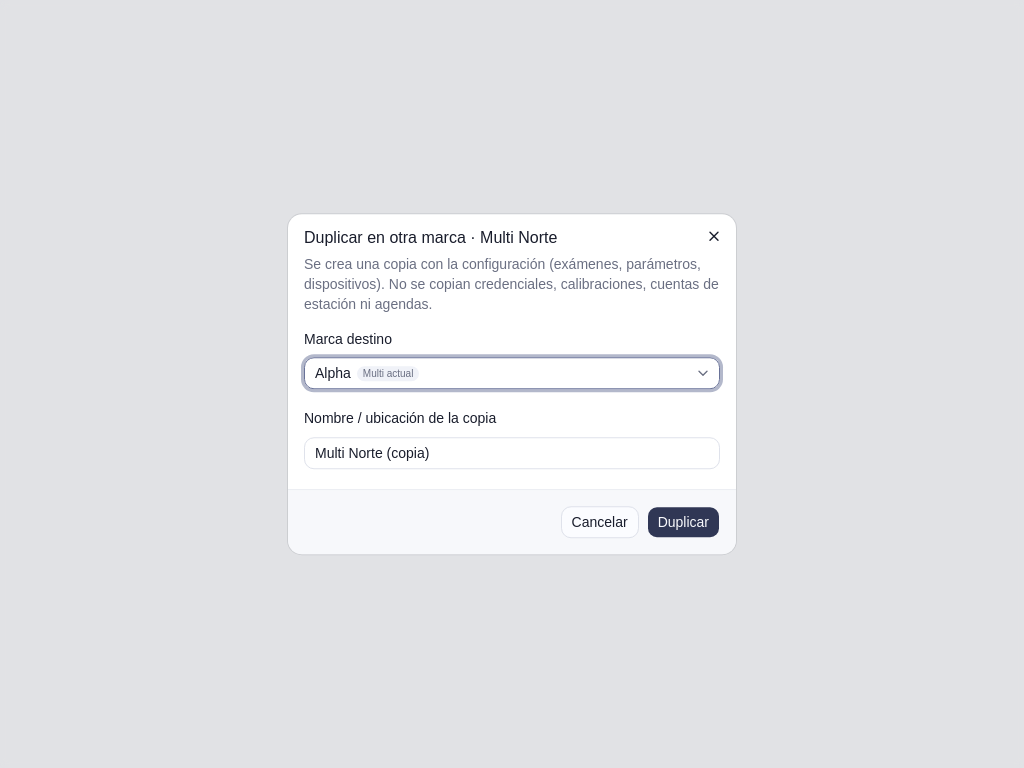
KioskActionDialog › shows the backend error for a failed duplicate
This screenshot has width=1024, height=768.
Click the button "Duplicar". click: (683, 522)
box: [647,506,720,538]
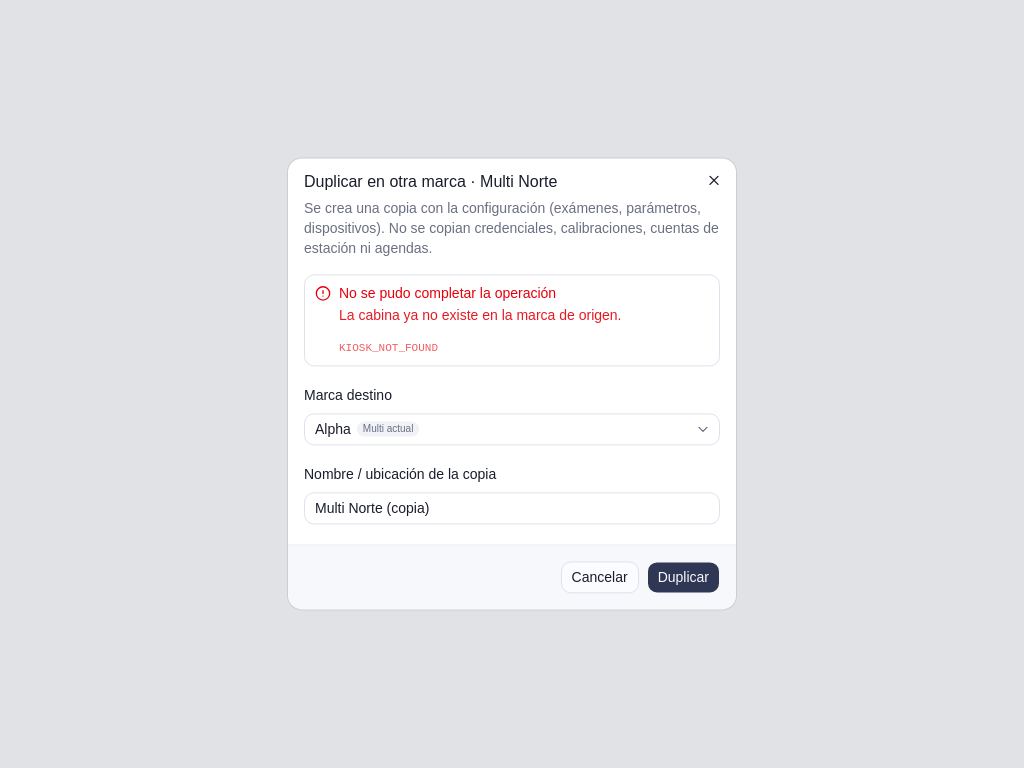
Expected: the message shows "La cabina ya no existe en la marca de origen.", [339,307,622,323]
Expected: the message shows "KIOSK_NOT_FOUND", [339,342,438,354]
